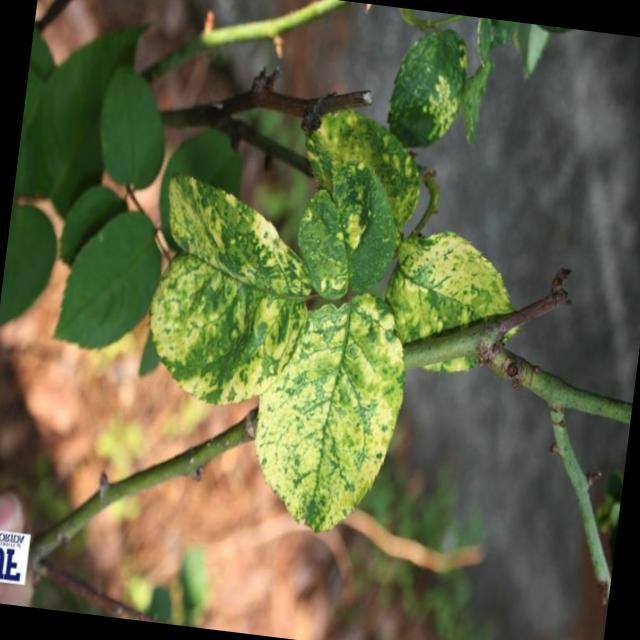Healthy Leaf: (40, 197, 163, 364), (92, 48, 181, 196)
Mosaic Virus: (134, 185, 316, 412), (245, 311, 409, 540), (384, 223, 518, 344), (318, 124, 417, 266), (386, 18, 476, 150)
